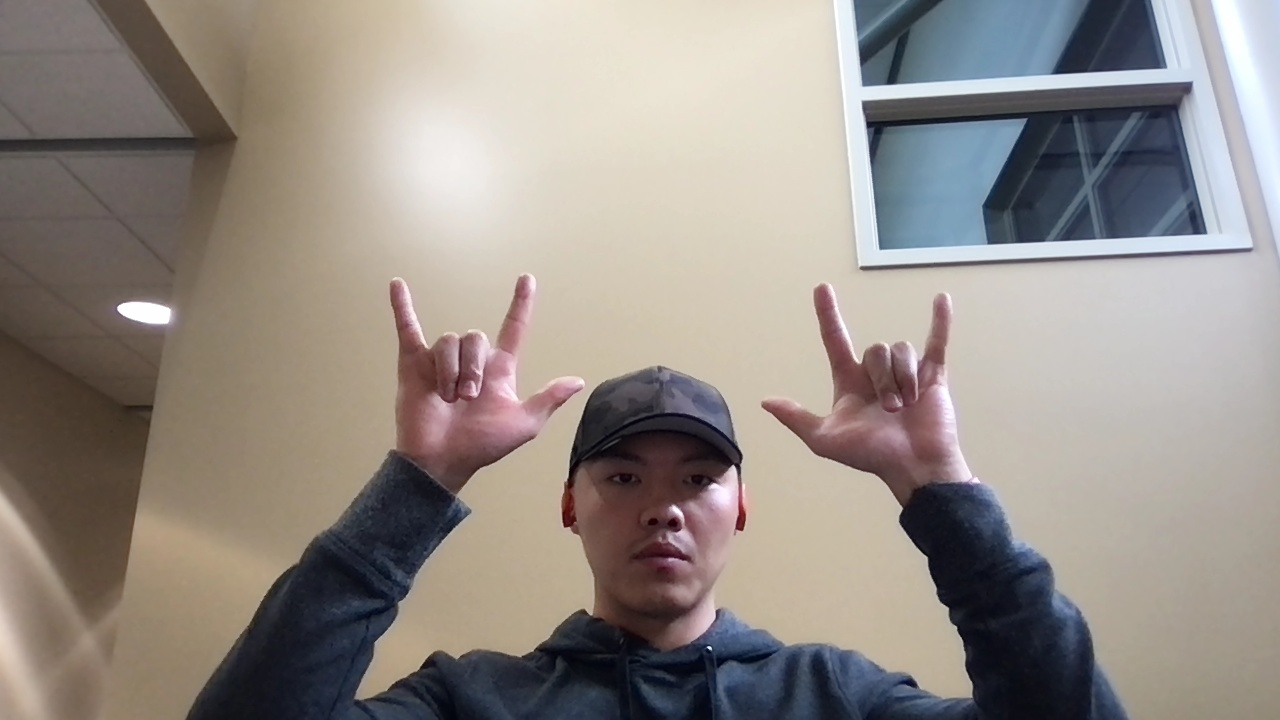I Love You: (383, 271, 584, 483), (761, 281, 977, 477)
